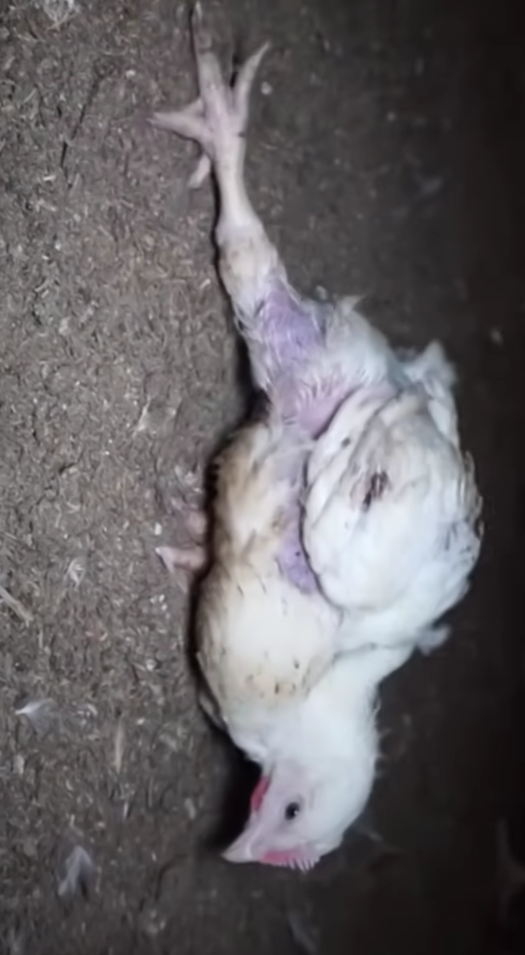Unhealthy: (127, 21, 489, 878)
